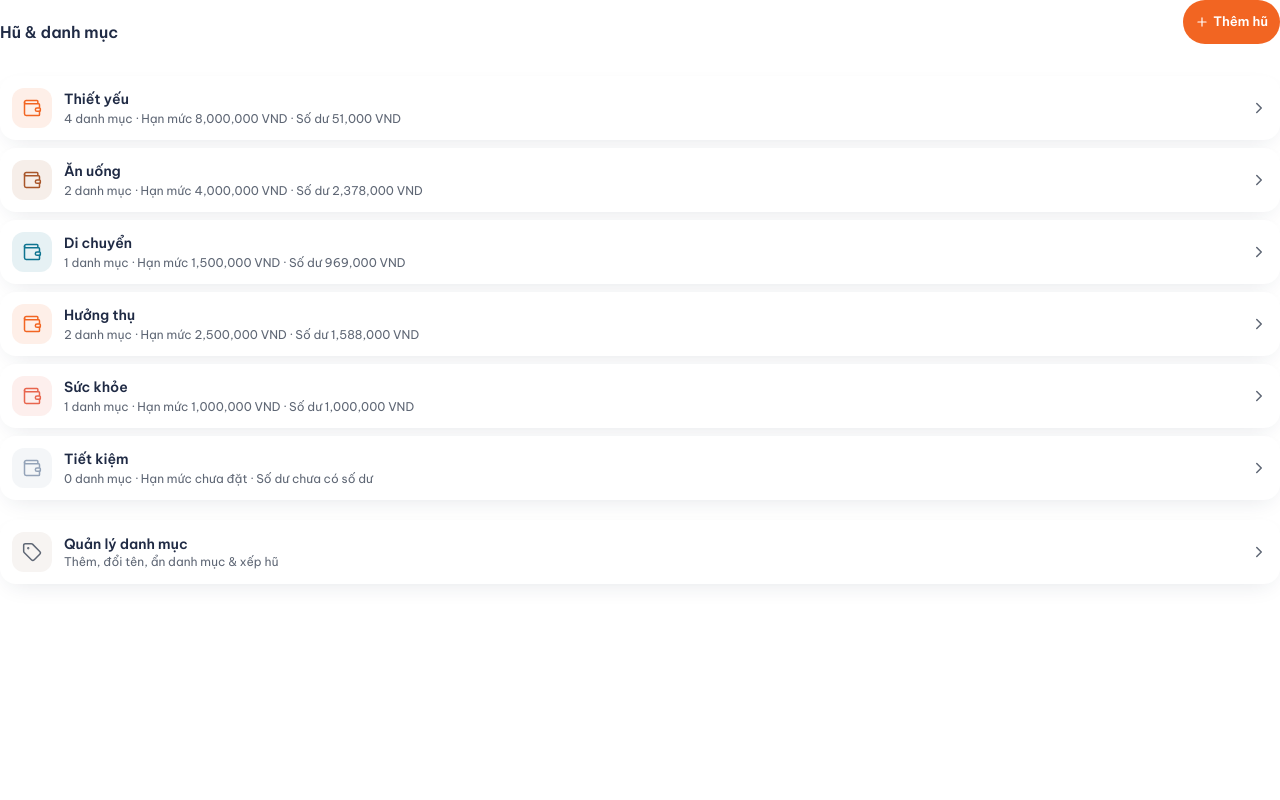
Test: HuCategoryTab › refuses an opening balance above Chờ phân bổ
Check: the text "Ăn uống" is shown, box [64,161,121,181]
Click the button "Thêm hũ": (1232, 22) [1183,0,1279,44]
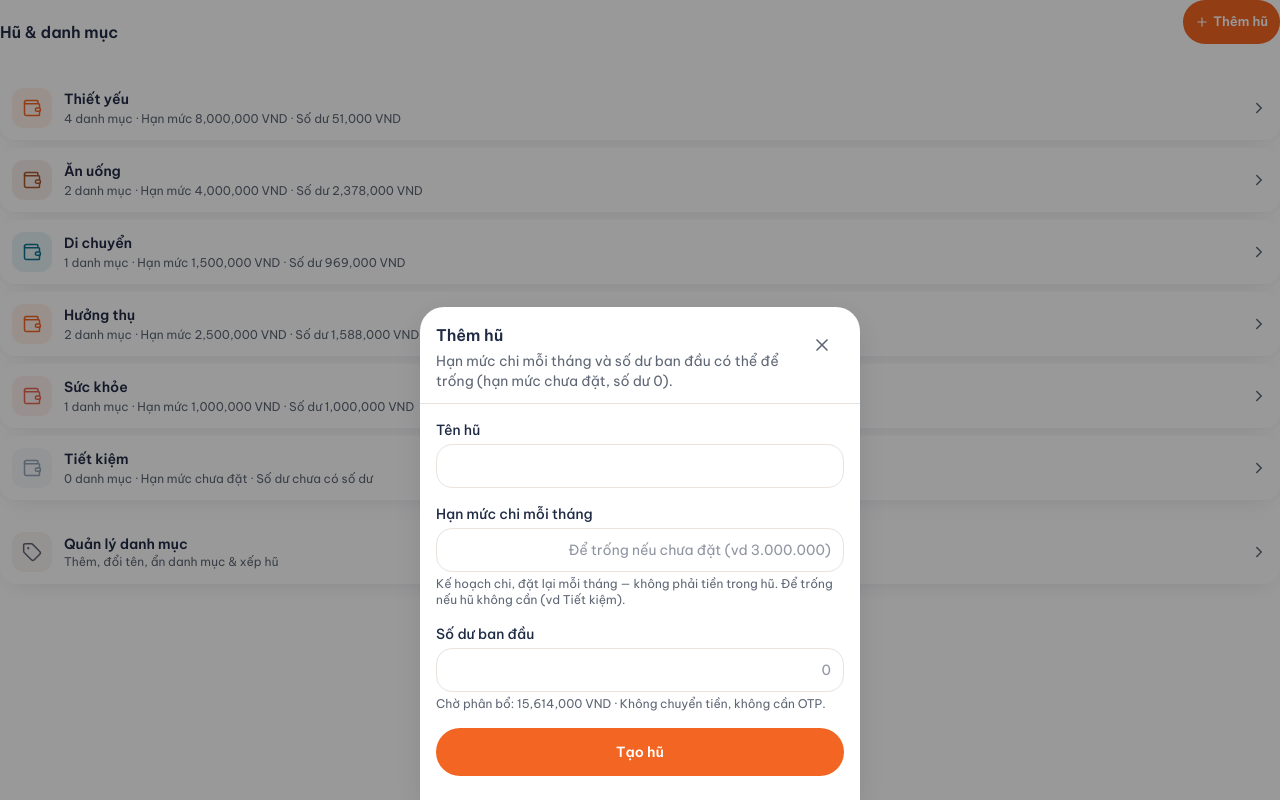
Check: the text "Chờ phân bổ: " is shown, box [436,696,611,711]
In the field named "Tên hũ mới": (640, 466) [436,444,844,488], type "Du lịch"
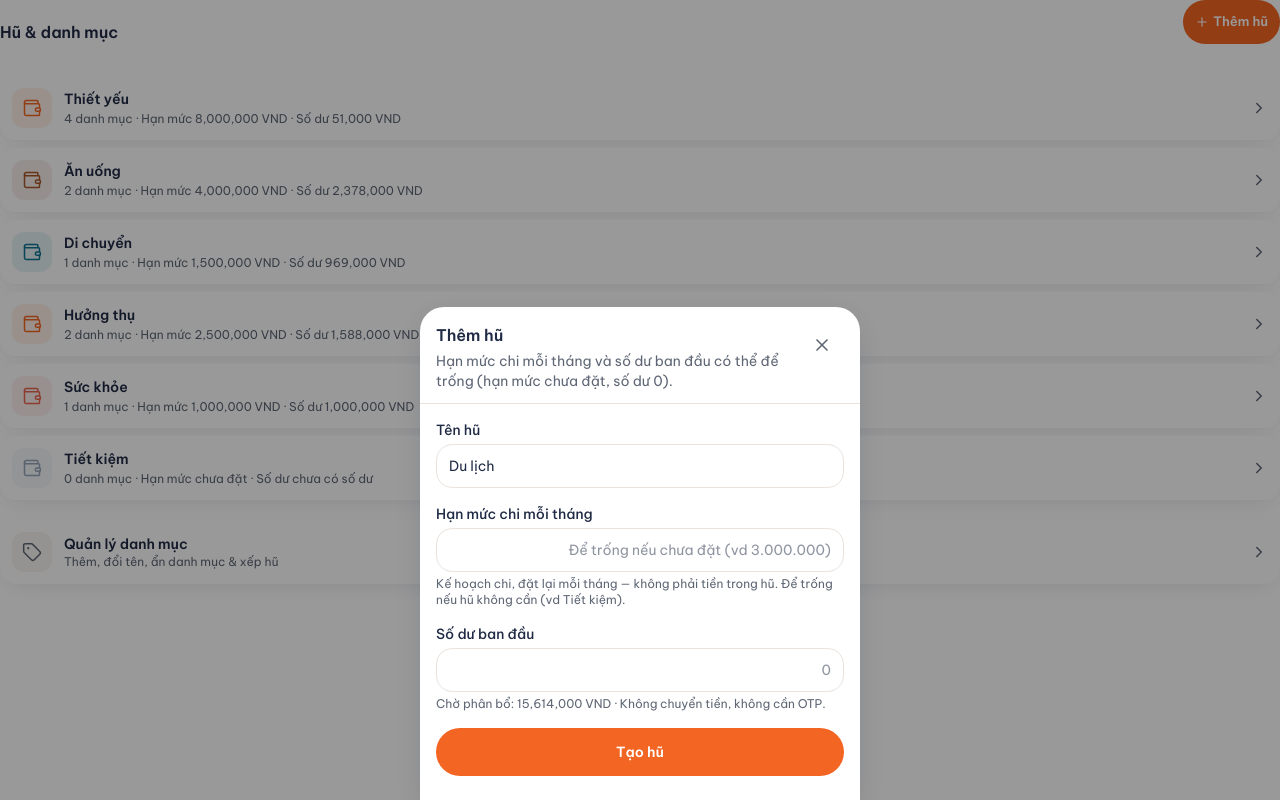
In the field labelled "Hạn mức chi mỗi tháng": (640, 550) [436,528,844,572], type "2000000"
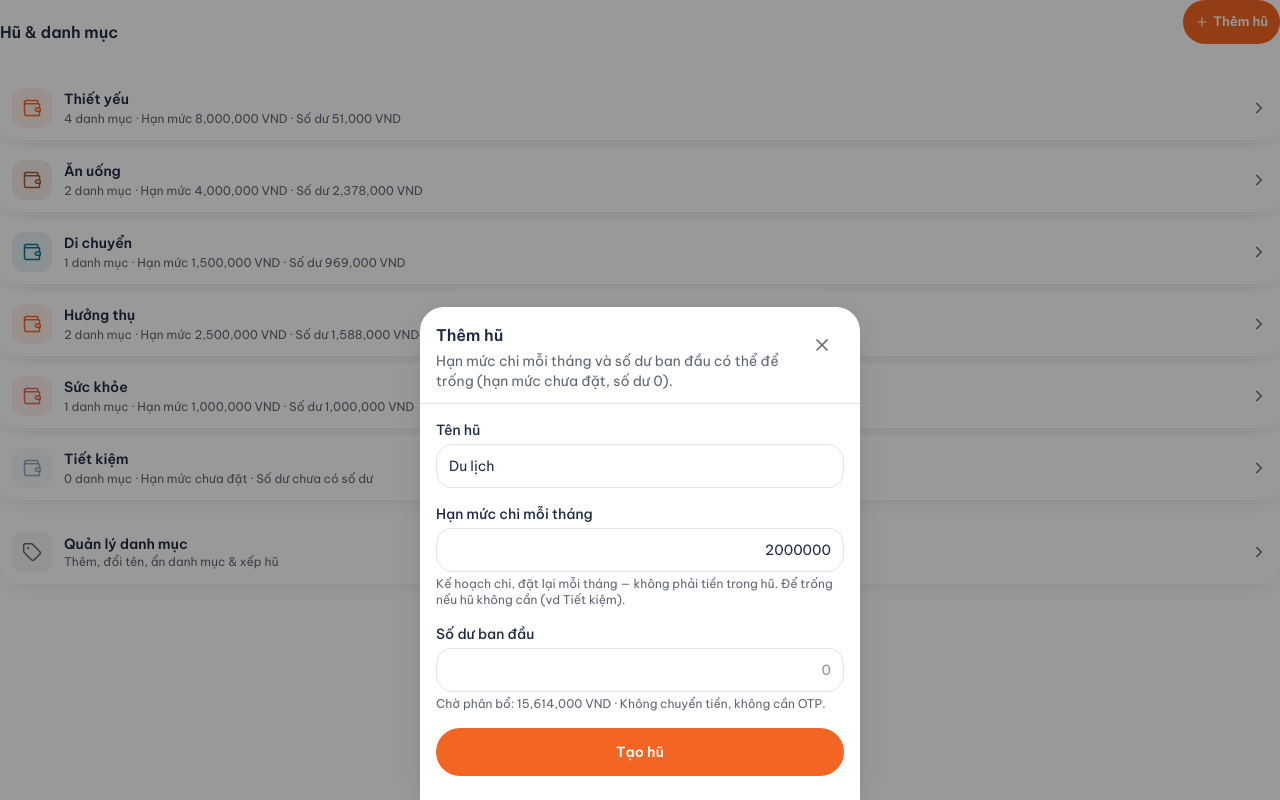
In the field labelled "Số dư ban đầu": (640, 670) [436,648,844,692], type "900000000000"
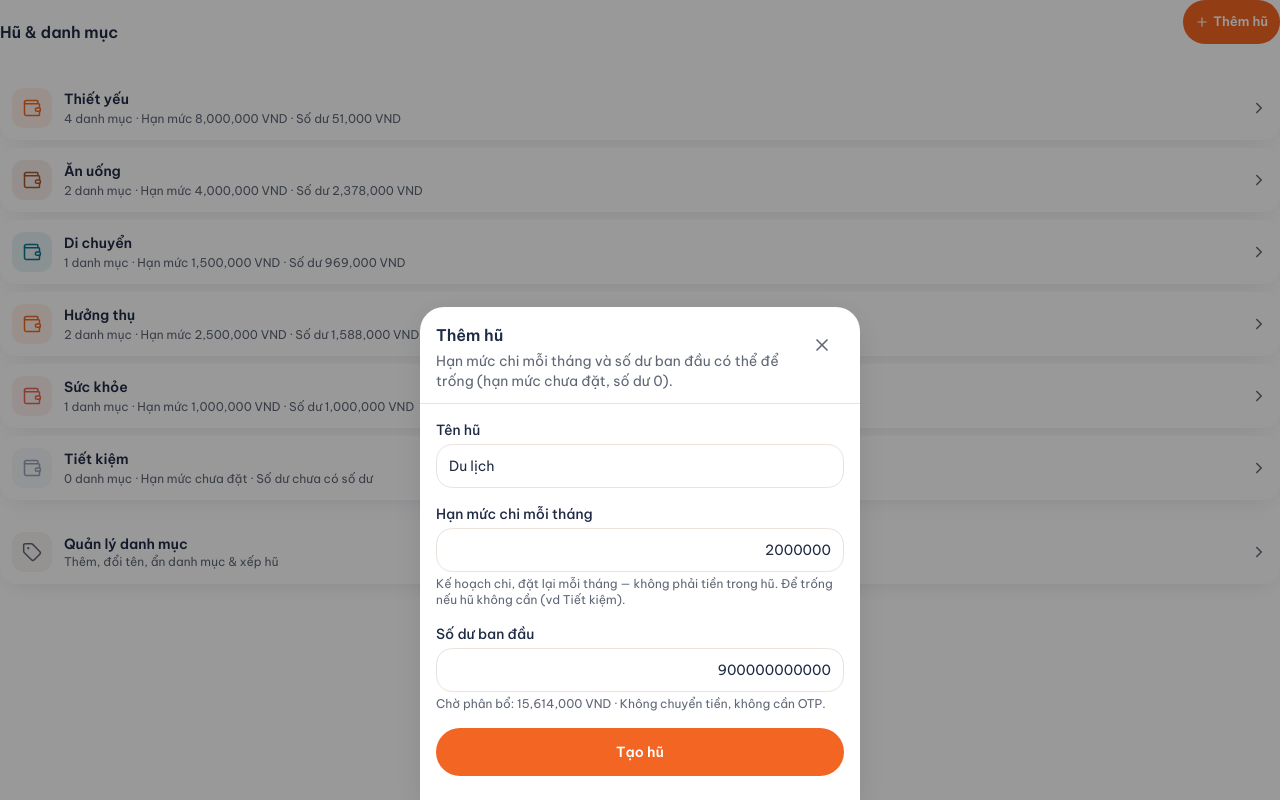
Click the button "Tạo hũ": (640, 752) [436,728,844,776]
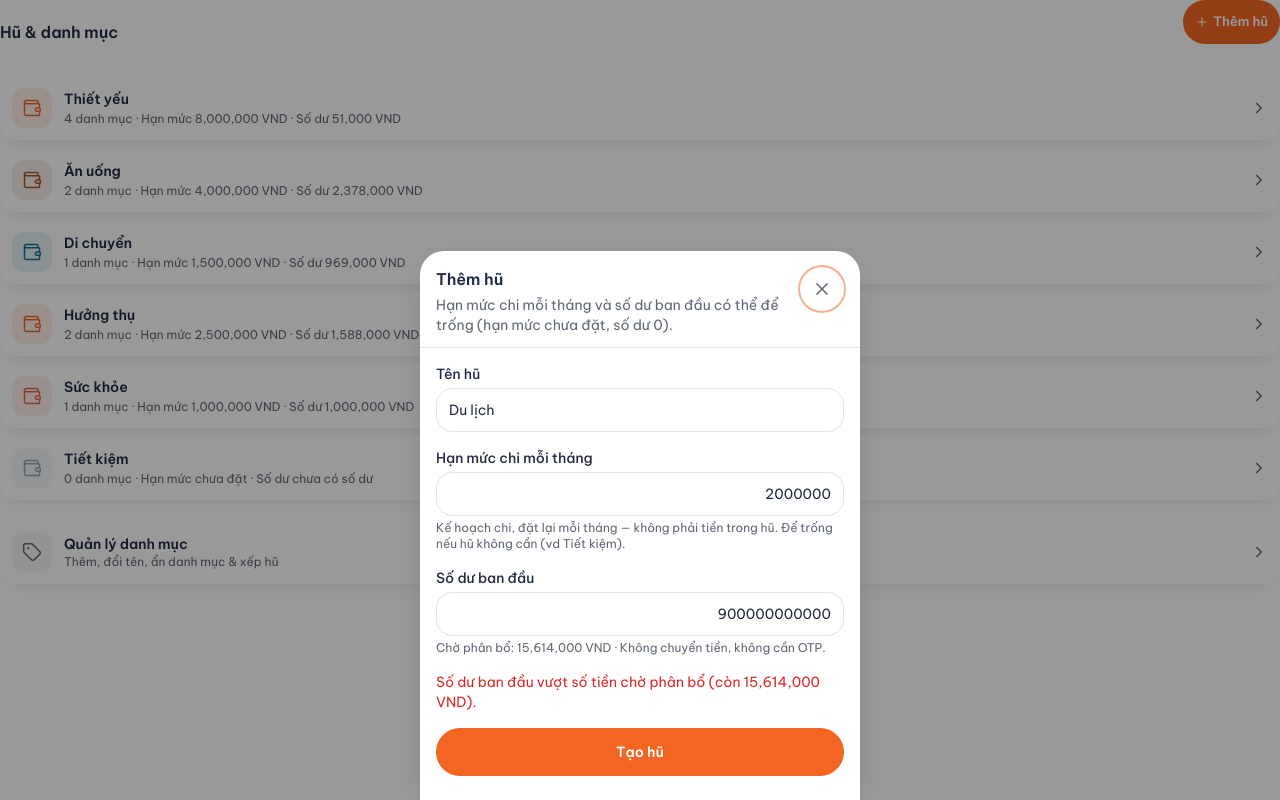
Check: the message shows "Số dư ban đầu vượt số tiền chờ phân bổ", box [436,673,820,711]
